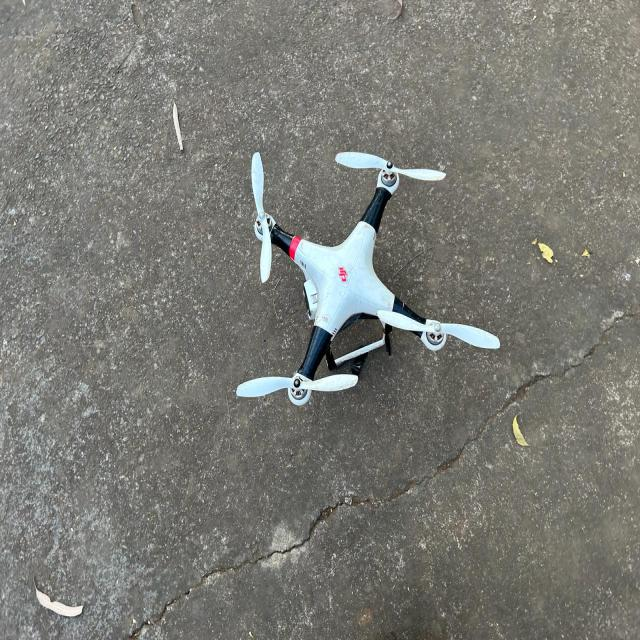drone: (247, 154, 452, 406)
